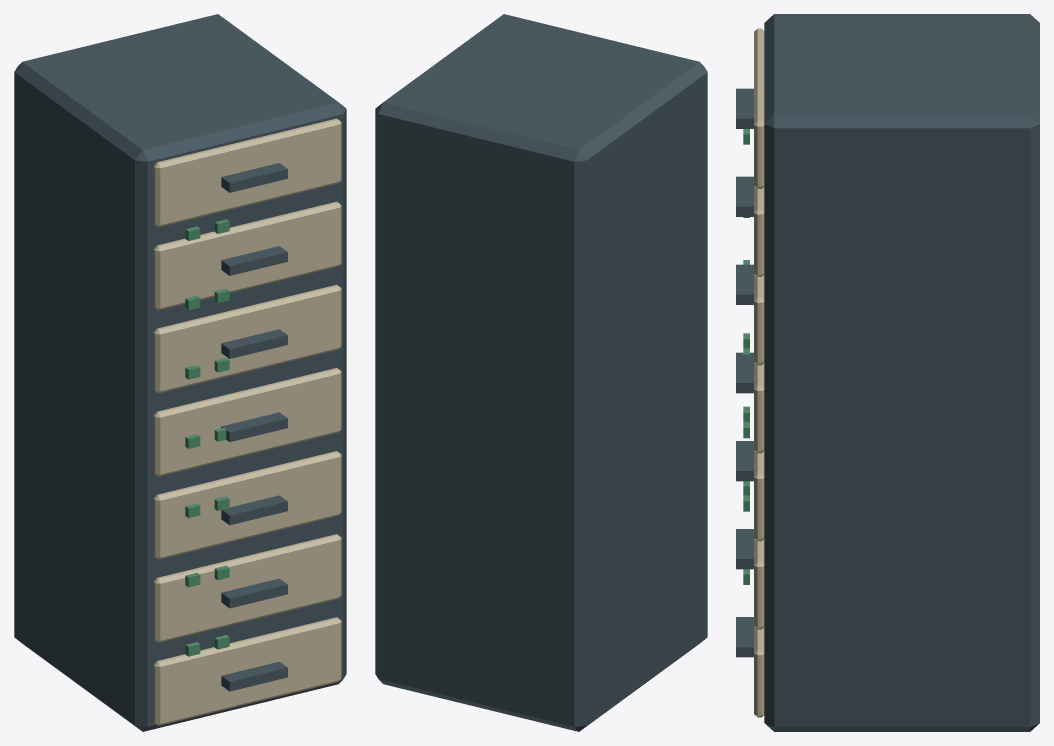
Rendered from server_rack.glb.
3 views of the same model, side by side, from view 1: azimuth 30°, elevation 25°; view 2: azimuth 150°, elevation 25°; view 3: azimuth 270°, elevation 25° (orthographic). The views are drawn at different scales.
Parts seen in each view (by area): view 1: server_rack; view 2: server_rack; view 3: server_rack.
Part boxes in pixels (box(x1,y1,x2,y2)): server_rack: box(14, 14, 346, 731); server_rack: box(375, 14, 707, 731); server_rack: box(736, 14, 1039, 731).
Bounding box in the file's own units: 0.8 × 2.1 × 0.9375.
